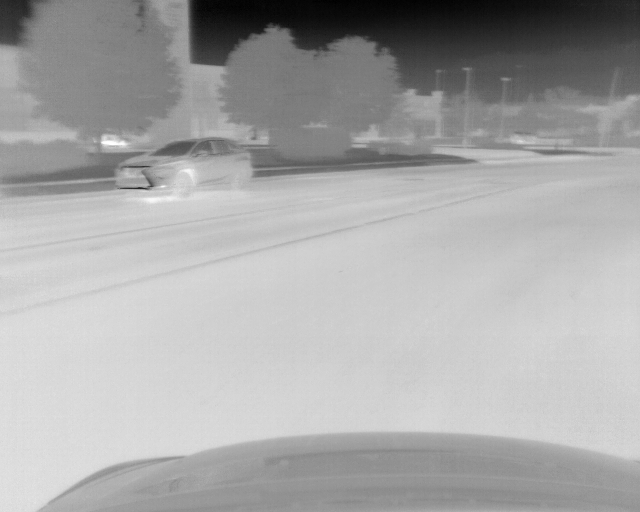car: (113, 136, 252, 201)
